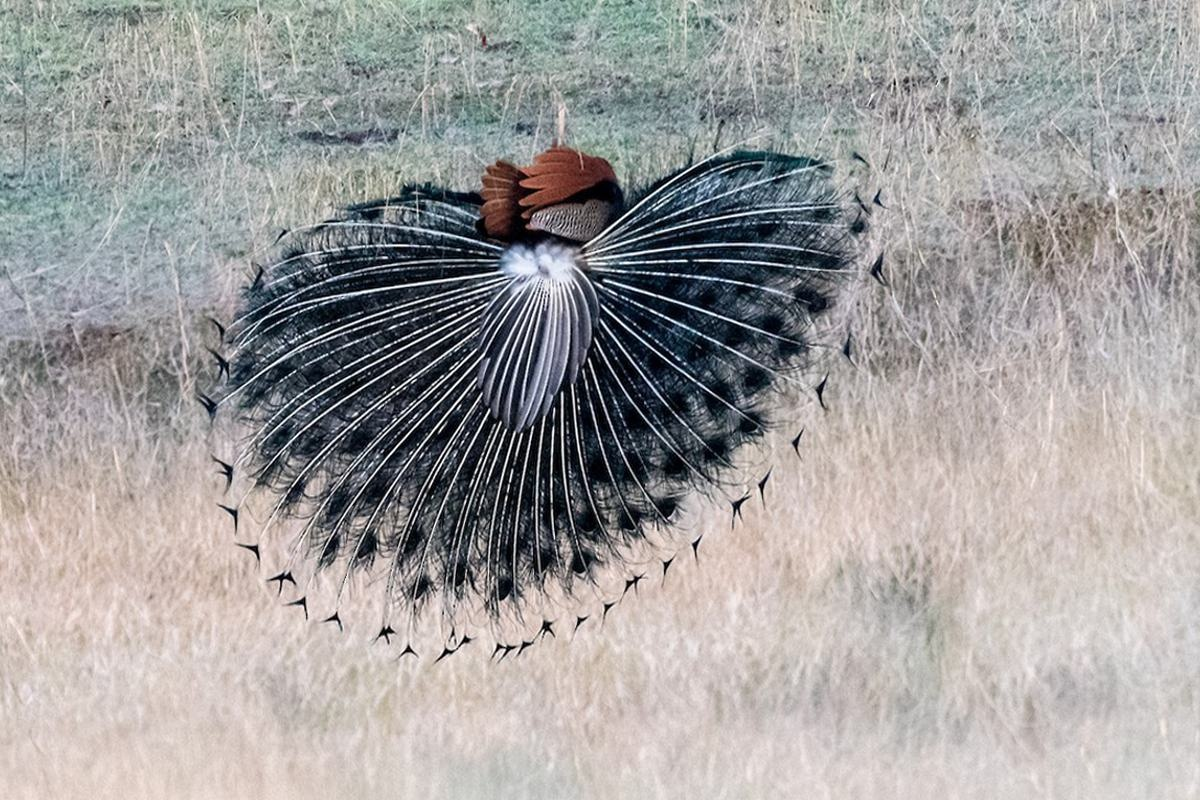peacock: (518, 123, 853, 732)
